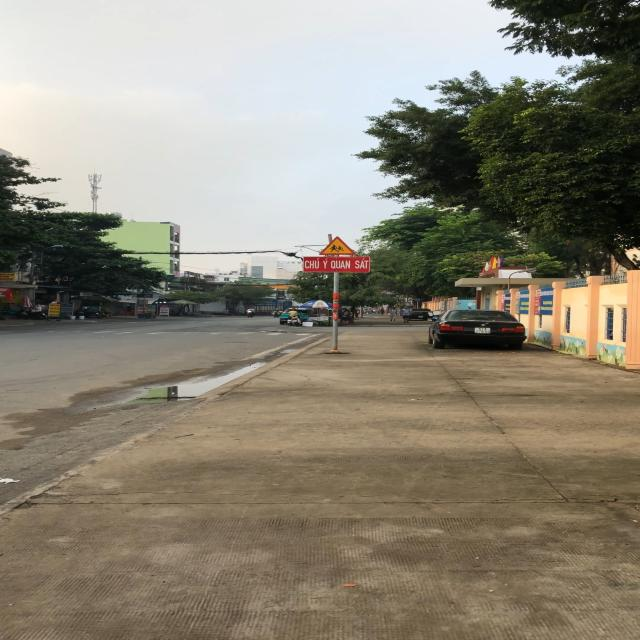Bien bao tre em: (317, 236, 357, 256)
